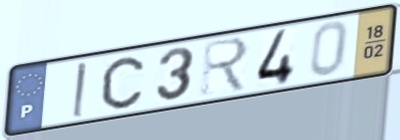0: (306, 18, 352, 80)
3: (152, 45, 197, 104)
4: (255, 26, 297, 88)
C: (99, 55, 146, 111)
I: (70, 60, 88, 121)
R: (198, 35, 252, 99)
